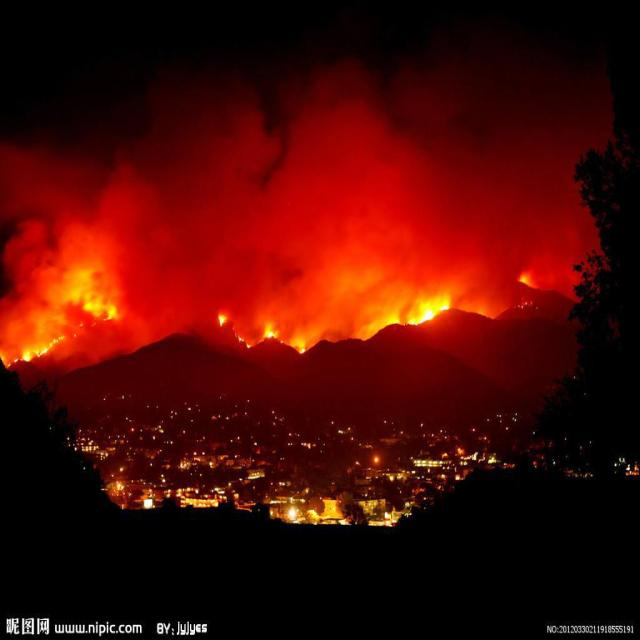fire: (213, 284, 471, 352), (10, 232, 130, 377), (518, 251, 565, 292)
other: (78, 420, 469, 532)
